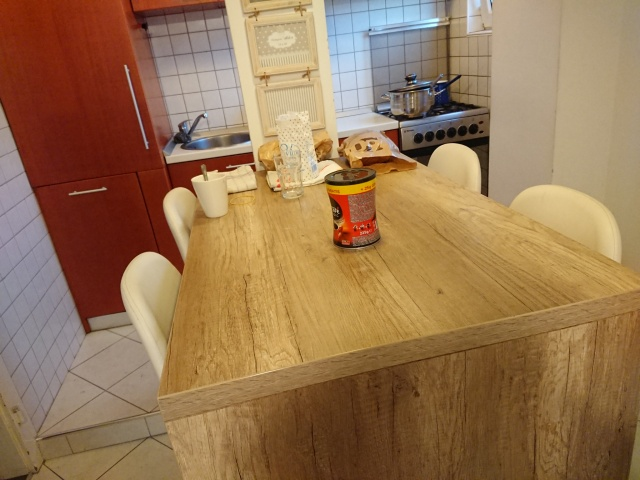Nescafe Classic 225g: (322, 166, 384, 251)
